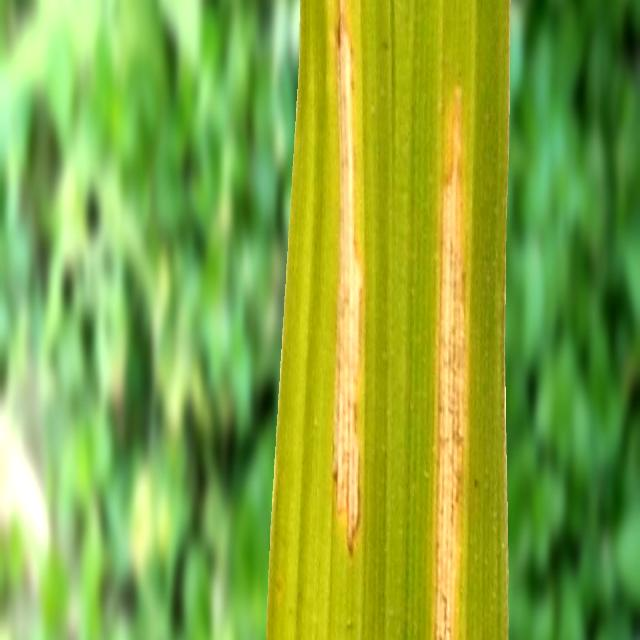BLS: (434, 86, 466, 640), (332, 0, 361, 551)
